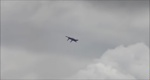maybay_muctieu: (64, 34, 78, 43)
